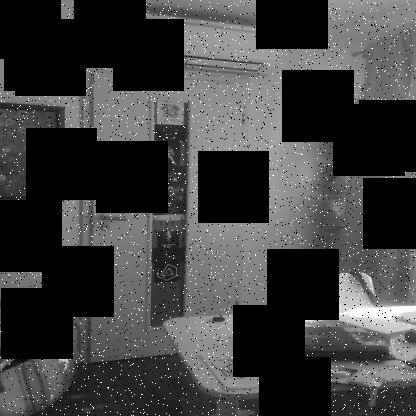Porte: (75, 62, 252, 366)
